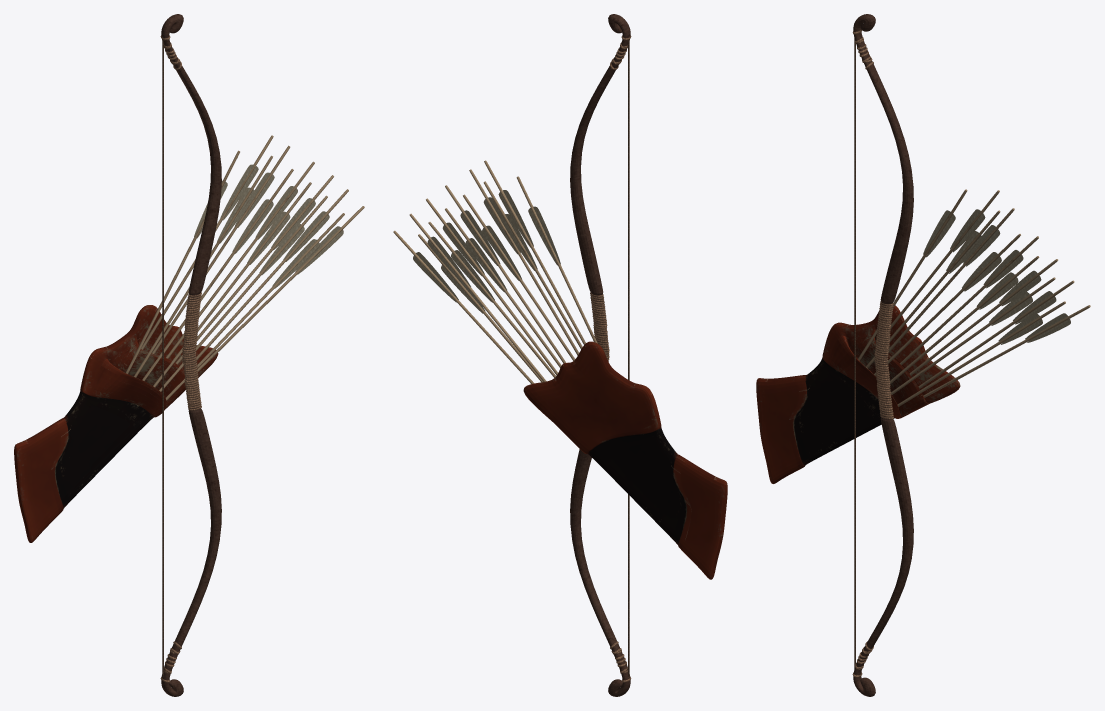
File: Ranged_Weapons.fbx
The picture shows the model from 3 angles, left to right: view 1: azimuth 30°, elevation 25°; view 2: azimuth 150°, elevation 25°; view 3: azimuth 330°, elevation 25°; orthographic projection.
Visible parts, largest first — view 1: Quiver & Arrows, Bow; view 2: Quiver & Arrows, Bow; view 3: Quiver & Arrows, Bow.
Boxes of the visible parts, left/top/right/bottom form: Quiver & Arrows: left=14, top=135, right=364, bottom=542; Bow: left=160, top=14, right=221, bottom=696; Quiver & Arrows: left=393, top=160, right=727, bottom=579; Bow: left=570, top=14, right=631, bottom=696; Quiver & Arrows: left=756, top=189, right=1090, bottom=483; Bow: left=852, top=14, right=913, bottom=696.
Size of the model in its own units: 332 by 632 by 50.92.
